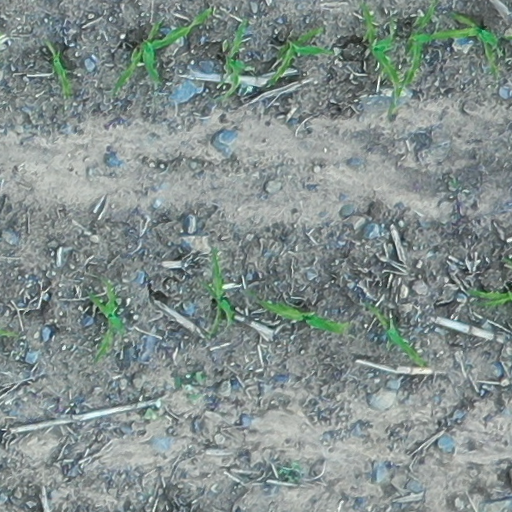planta: (116, 10, 211, 89), (418, 11, 497, 73), (361, 5, 400, 114), (367, 304, 424, 366), (269, 29, 330, 83), (262, 300, 344, 334), (91, 280, 124, 362), (206, 251, 234, 334), (225, 23, 246, 97), (47, 41, 70, 95), (471, 290, 511, 306)
